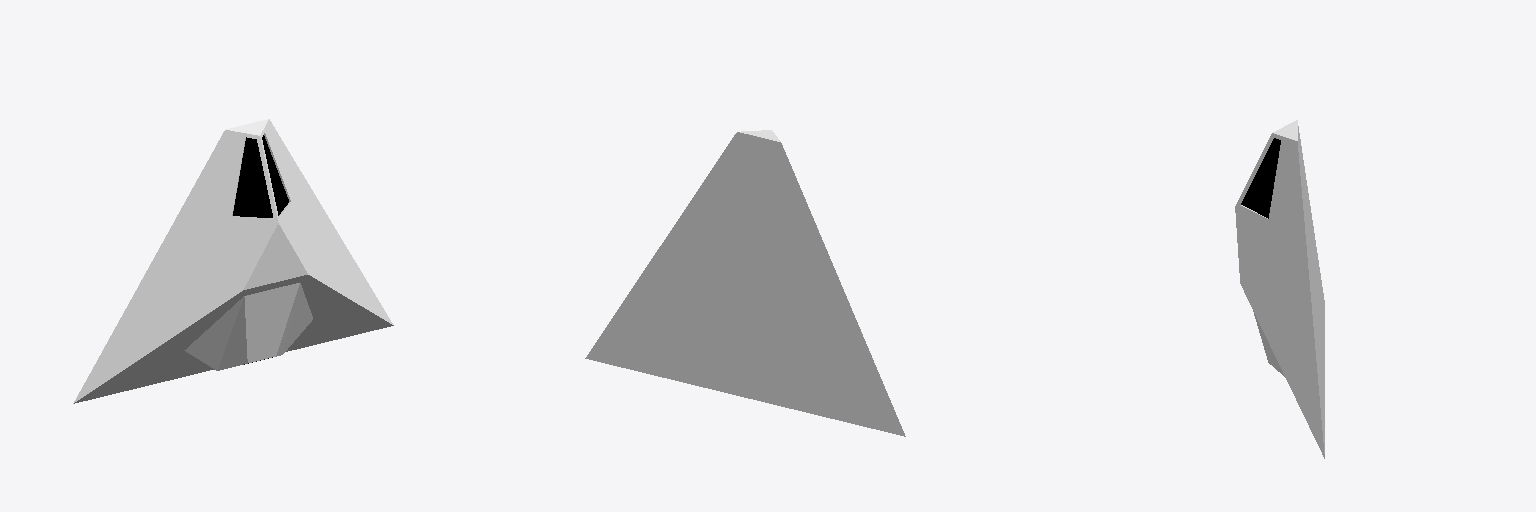
Rendered from ship.obj.
3 views of the same model, side by side, from view 1: azimuth 30°, elevation 25°; view 2: azimuth 150°, elevation 25°; view 3: azimuth 270°, elevation 25° (orthographic).
Parts seen in each view (by area): view 1: tetrahedron1; view 2: tetrahedron1; view 3: tetrahedron1.
Part boxes in pixels (x1,y1,x2,y2): tetrahedron1: (73,119,393,403); tetrahedron1: (585,130,905,436); tetrahedron1: (1235,120,1324,458).
Size of the model in its own units: 3.27 by 2.44 by 0.7922.